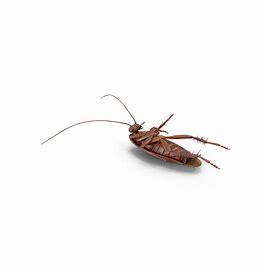cockroach: (40, 85, 235, 184)
